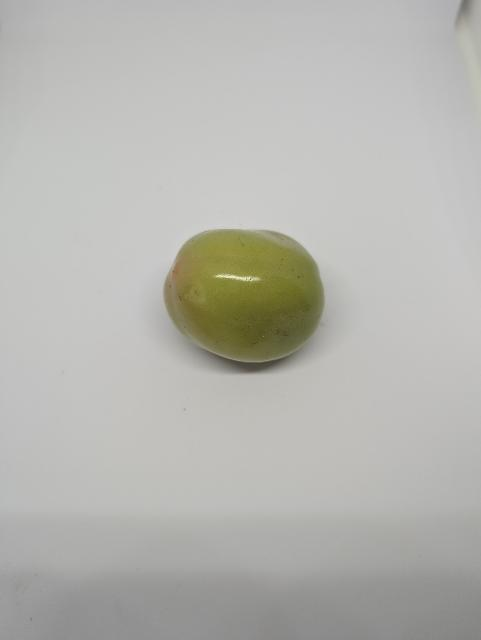green: (154, 218, 333, 379)
